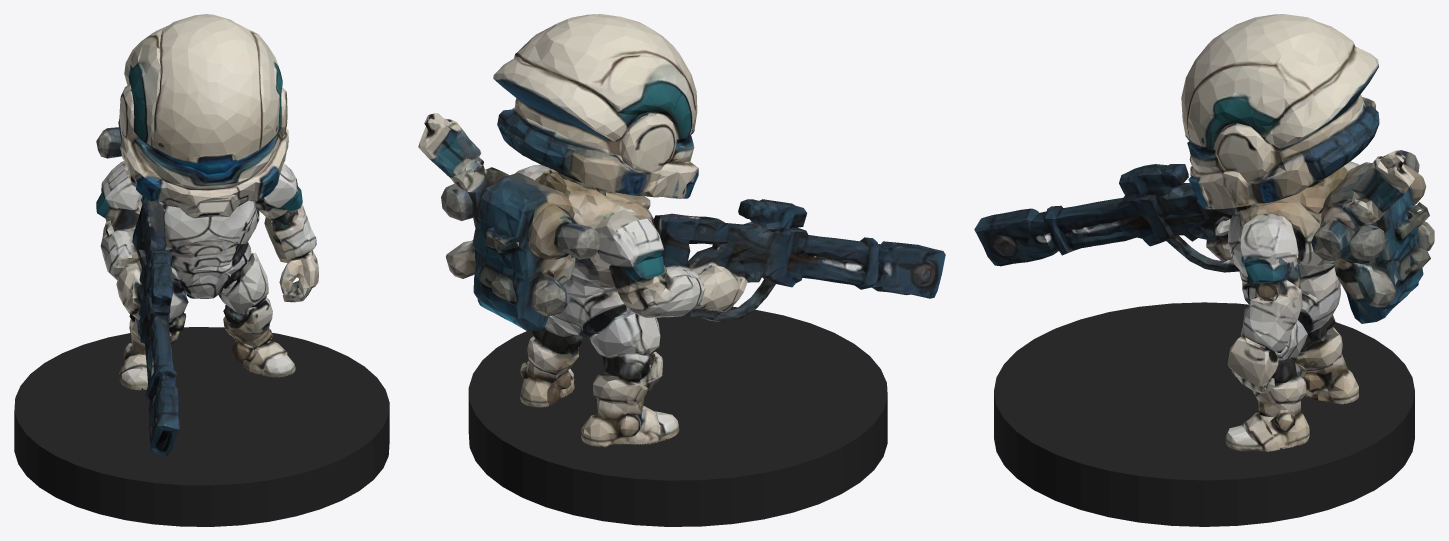
The model's file is fire-warrior-rifle.glb.
The picture shows the model from 3 angles, left to right: view 1: azimuth 30°, elevation 25°; view 2: azimuth 150°, elevation 25°; view 3: azimuth 270°, elevation 25°; orthographic projection. The views are drawn at different scales.
Visible parts, largest first — view 1: figure, base; view 2: figure, base; view 3: figure, base.
Part boxes in pixels (x1,y1,x2,y2): figure: (96, 14, 318, 455); base: (14, 327, 389, 526); figure: (418, 14, 945, 447); base: (468, 306, 887, 526); figure: (974, 14, 1434, 451); base: (994, 302, 1414, 526).
Size of the model in its own units: 0.9843 by 1.12 by 1.08.
Materials: 2 (1 with a texture image).
